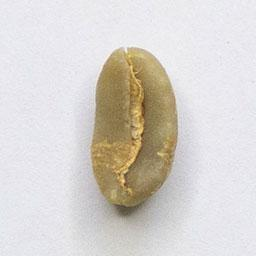longberry: (87, 43, 181, 211)
